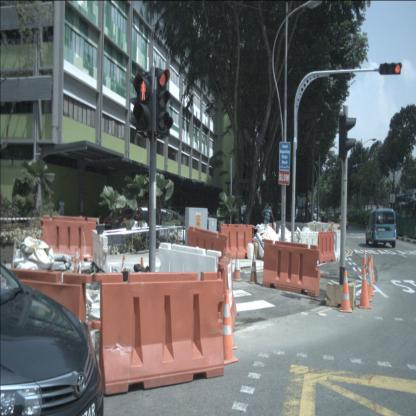barrier: (92, 271, 224, 396), (158, 241, 222, 305), (262, 239, 320, 297), (39, 214, 97, 263), (209, 252, 237, 335), (185, 225, 229, 276), (218, 224, 254, 260), (291, 231, 319, 271), (92, 230, 110, 276), (315, 230, 336, 265), (309, 224, 330, 245), (333, 228, 345, 262)
cone: (216, 289, 239, 365), (358, 268, 372, 309), (363, 256, 376, 297), (360, 264, 372, 302), (231, 249, 243, 281), (248, 251, 259, 285), (72, 246, 81, 280), (367, 254, 377, 284), (78, 244, 86, 272), (360, 250, 368, 277)
